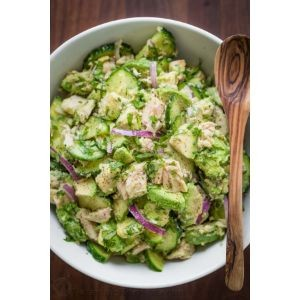tuna_brain food: (58, 47, 227, 262)
